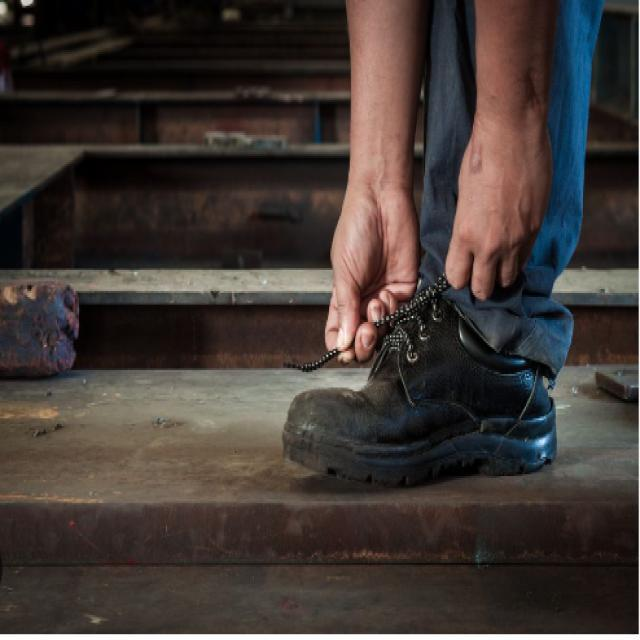shoes: (282, 258, 567, 496)
